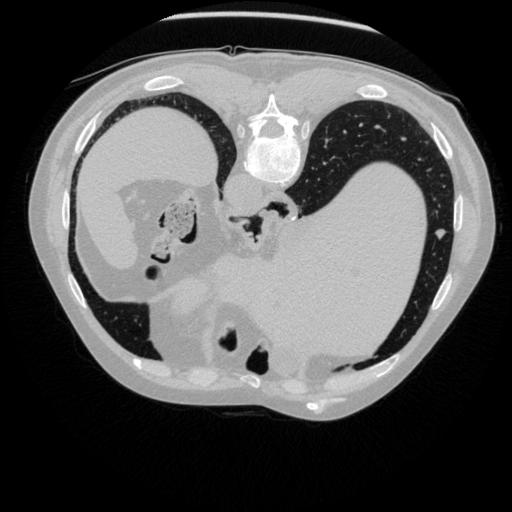nodule: (433, 227, 449, 243)
